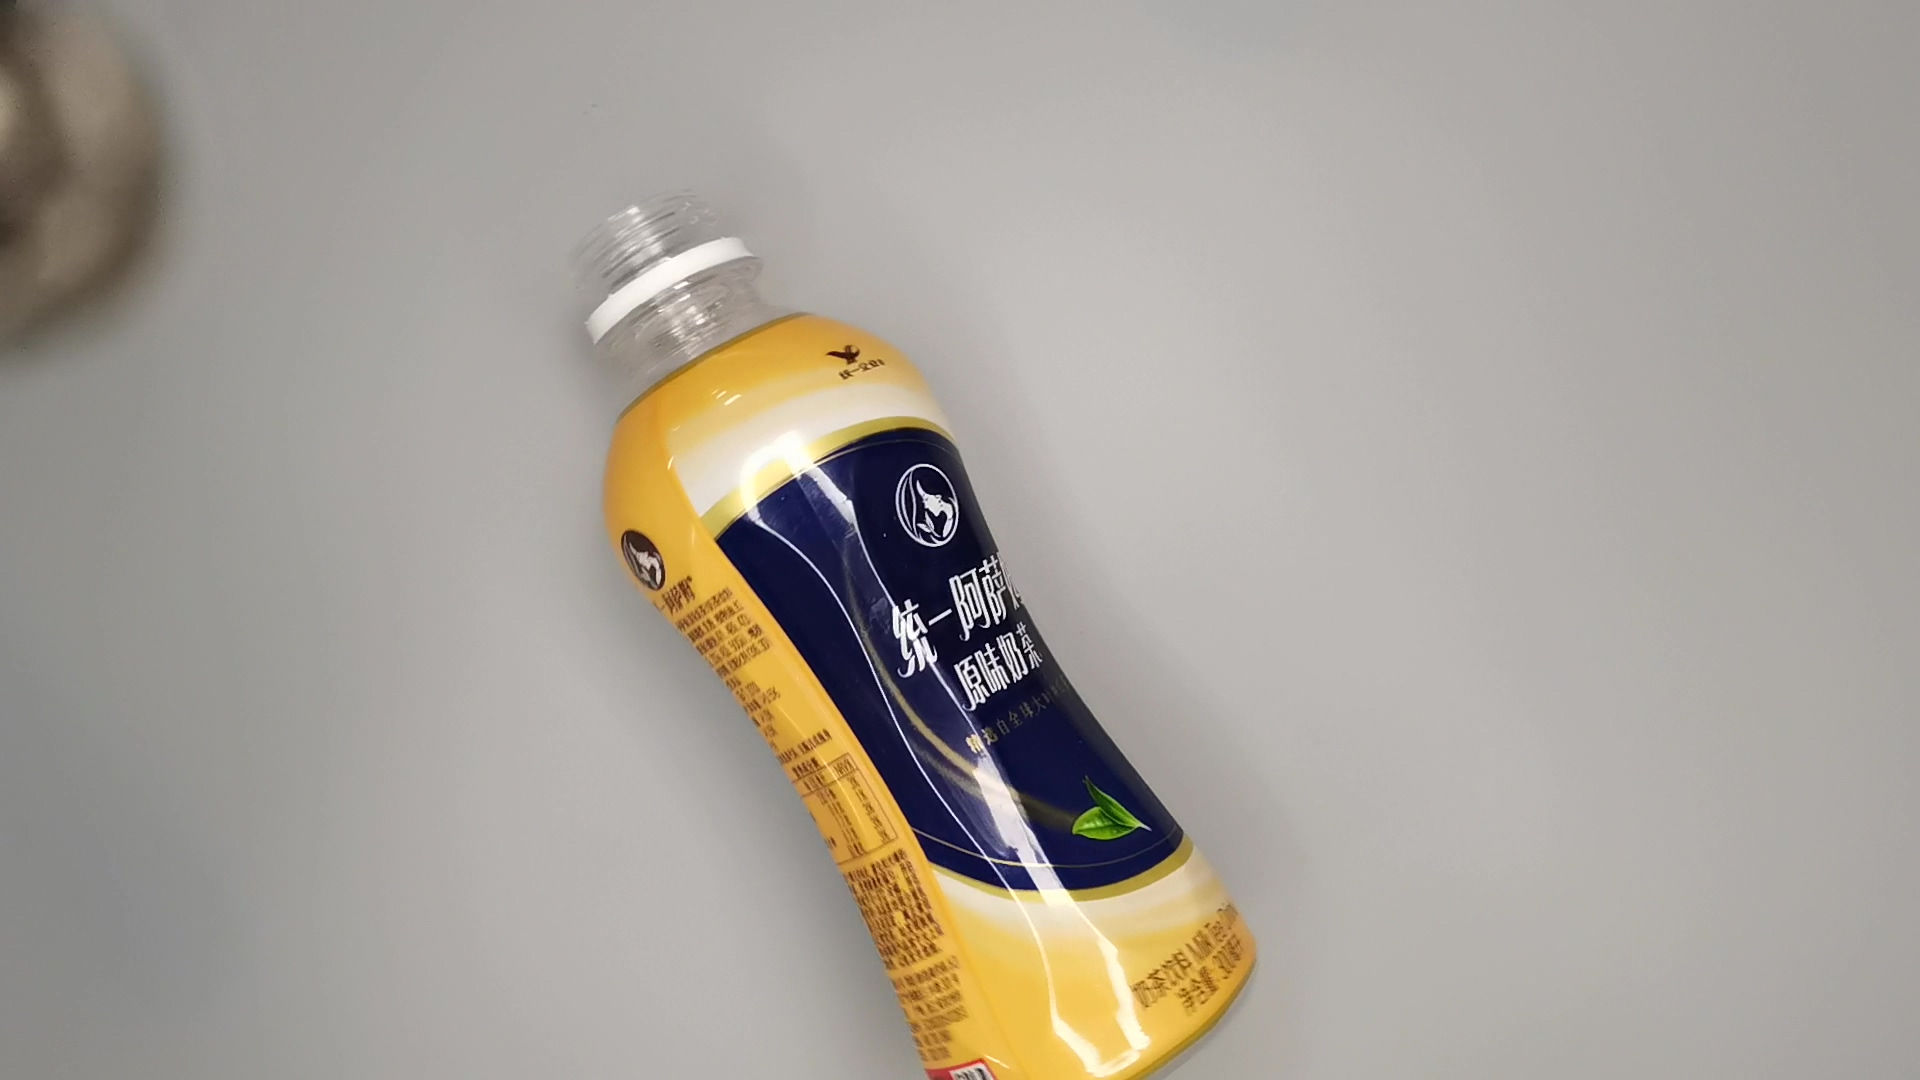bottle: (563, 182, 1276, 1080)
